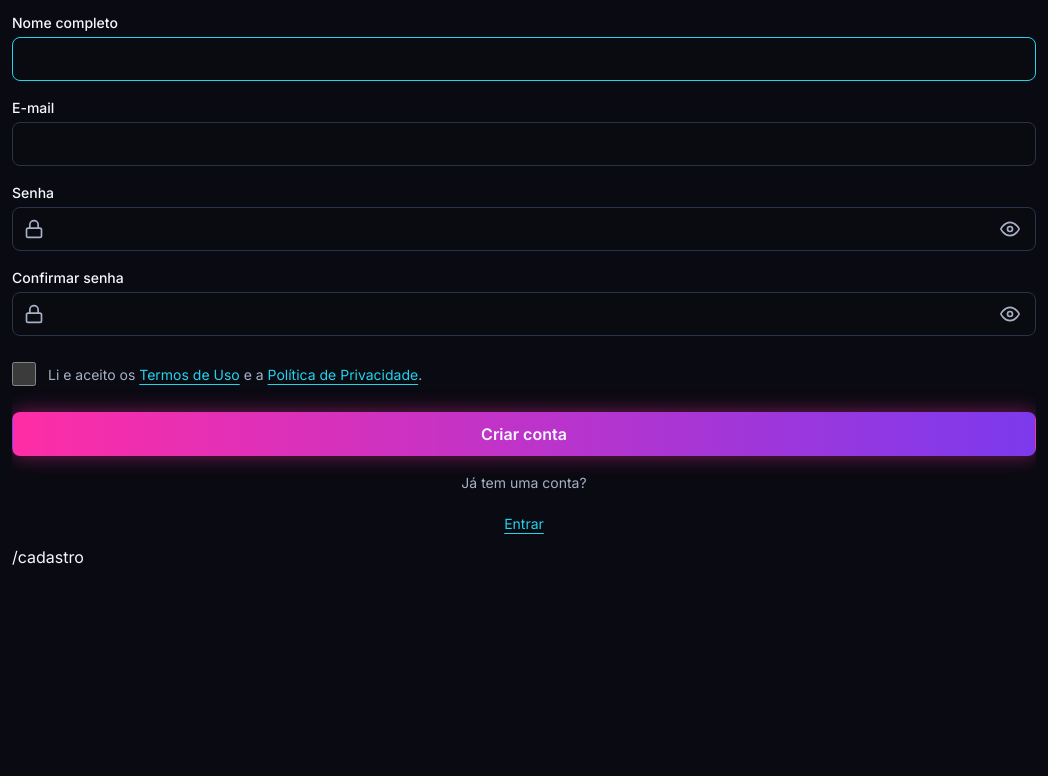
Test case: RegisterForm (AUTH-002) › CA-008: erros de validacao do servidor aparecem no campo correspondente
Type "Ana Maria" into the field labelled "Nome completo". click: (524, 59)
box: [12, 37, 1036, 81]
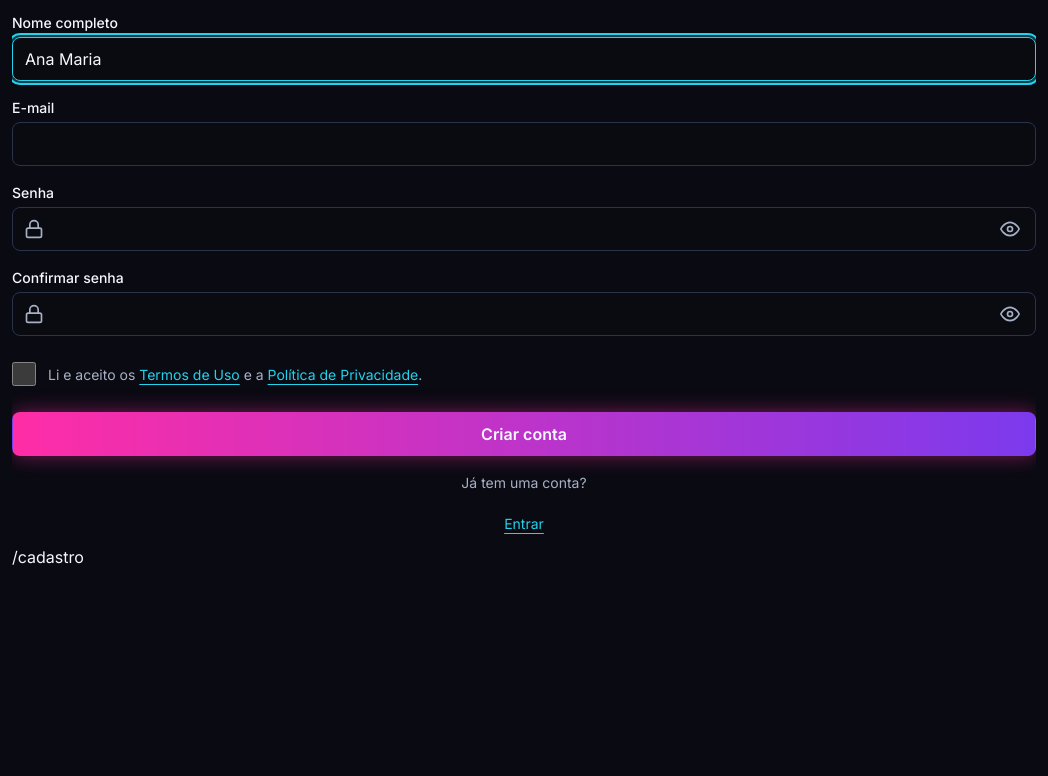
Type "ana@exemplo.com" into the field labelled "E-mail". click: (524, 144)
box: [12, 122, 1036, 166]
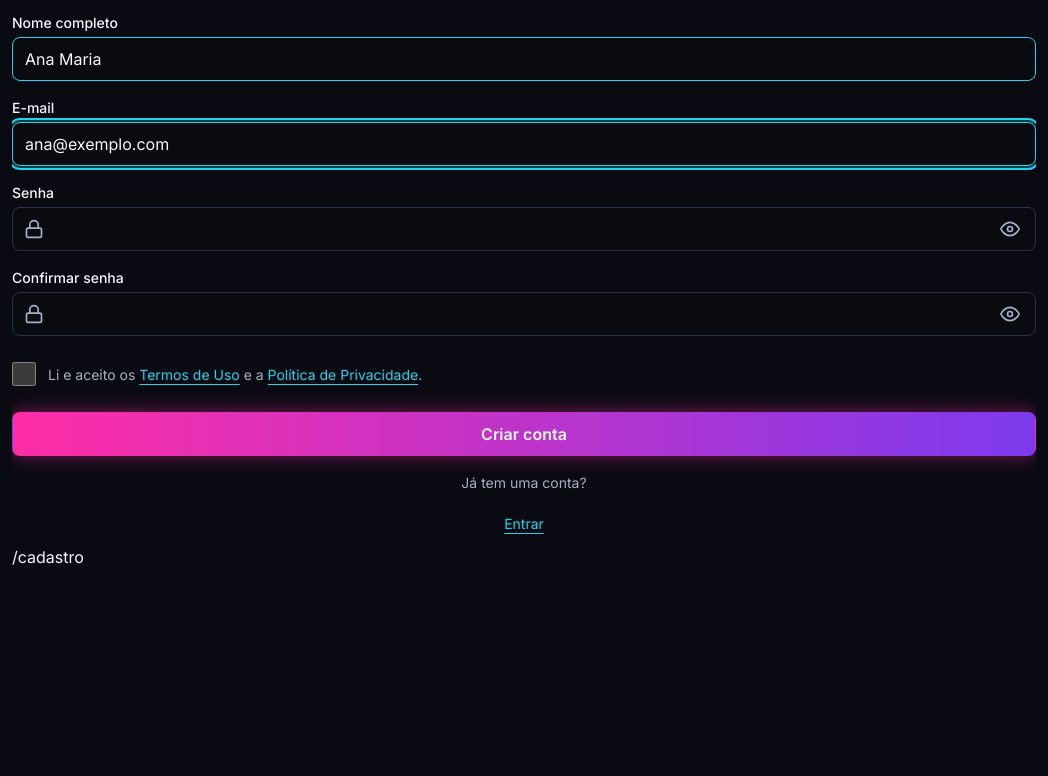
Type "Frase-Longa-Segura-2026" into the password field labelled "Senha". click: (524, 229)
box: [12, 207, 1036, 251]
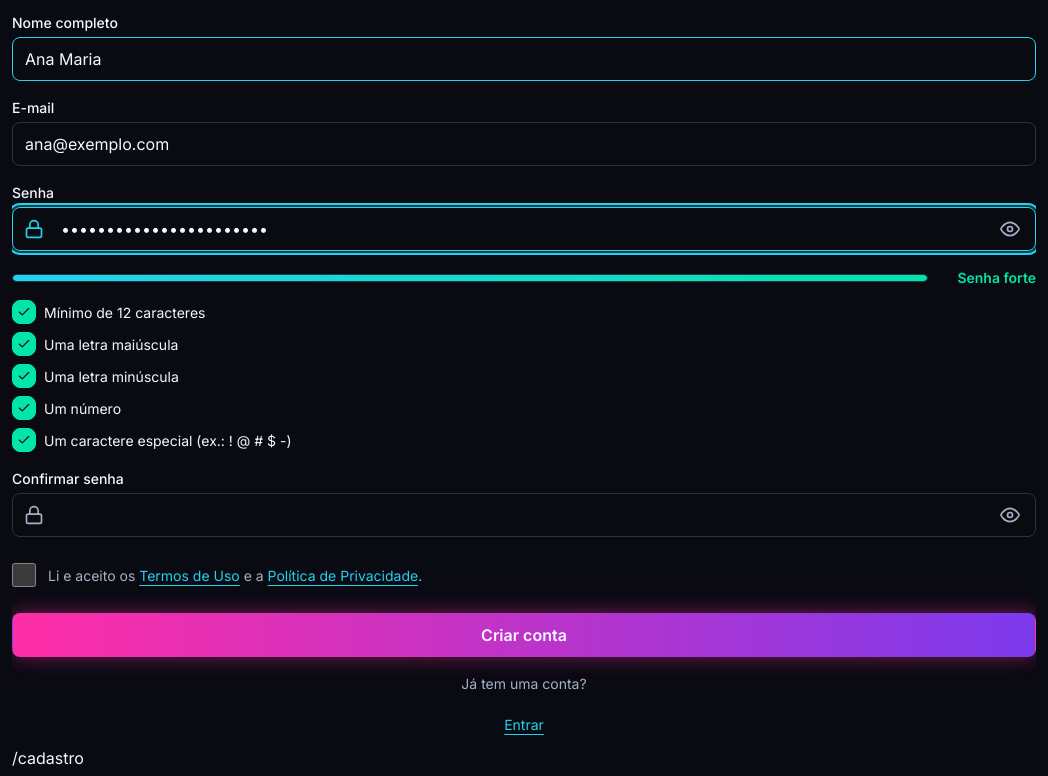
Type "Frase-Longa-Segura-2026" into the password field labelled "Confirmar senha". click: (524, 515)
box: [12, 493, 1036, 537]
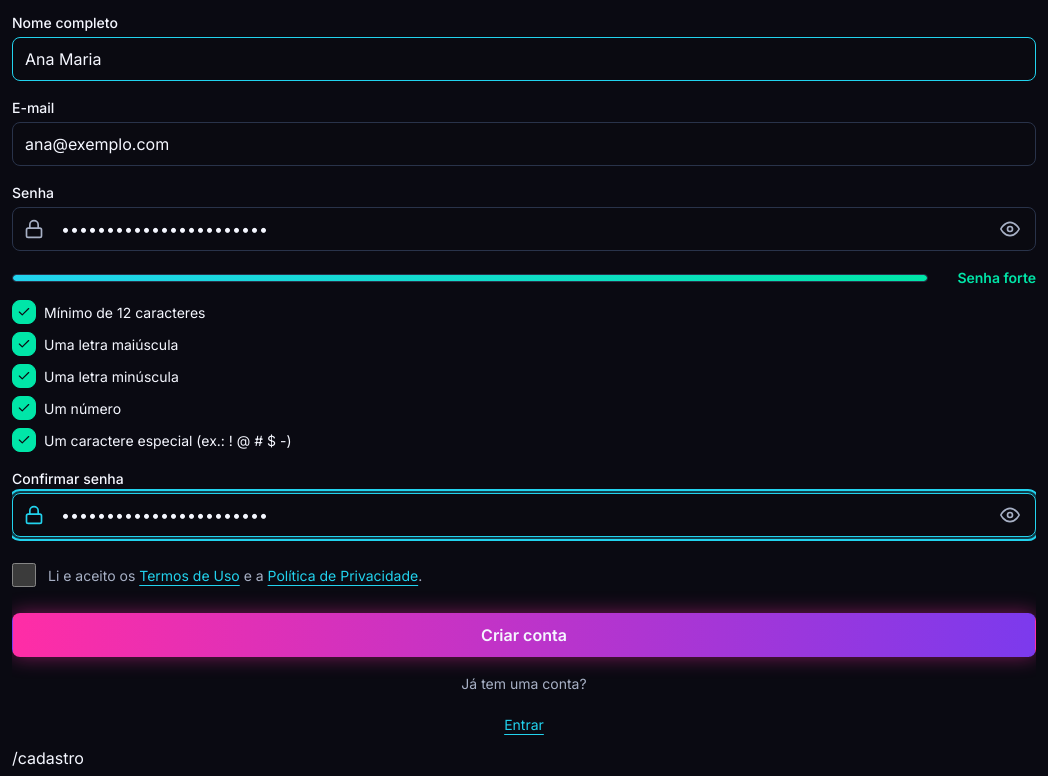
Click the checkbox. click: (24, 575)
box: [12, 563, 36, 587]
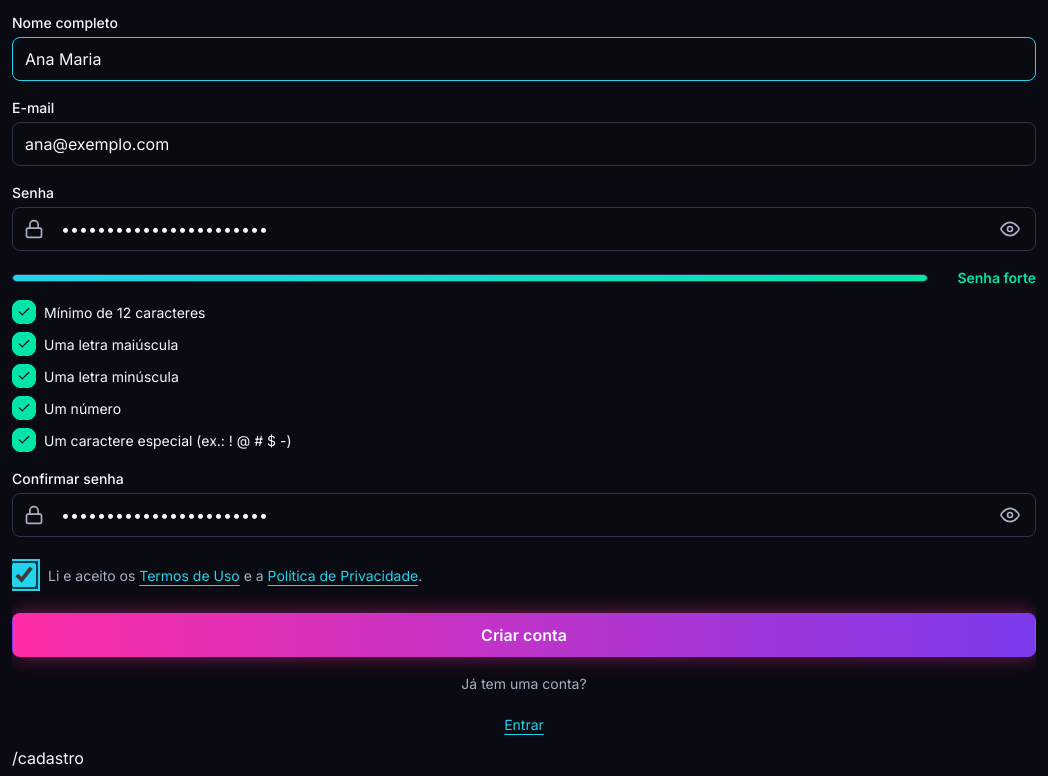
Click the button "Criar conta". click: (524, 635)
box: [12, 613, 1036, 657]
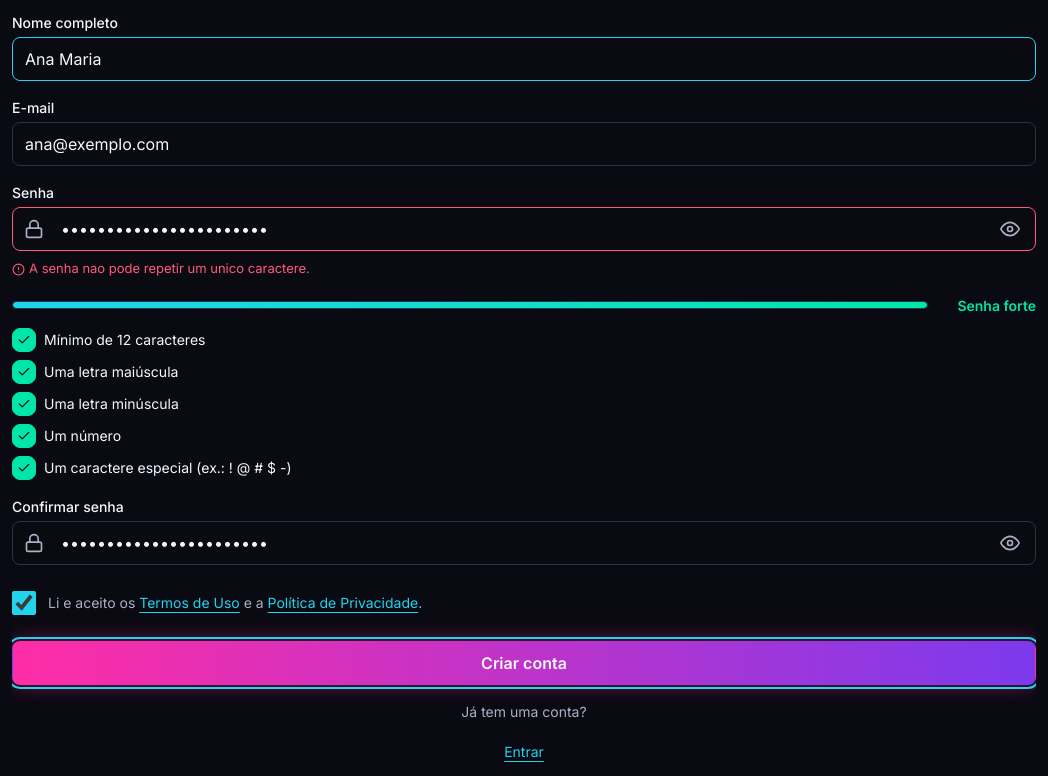
expect the text "A senha nao pode repetir um unico caractere." is shown: met, box [29, 259, 310, 278]
